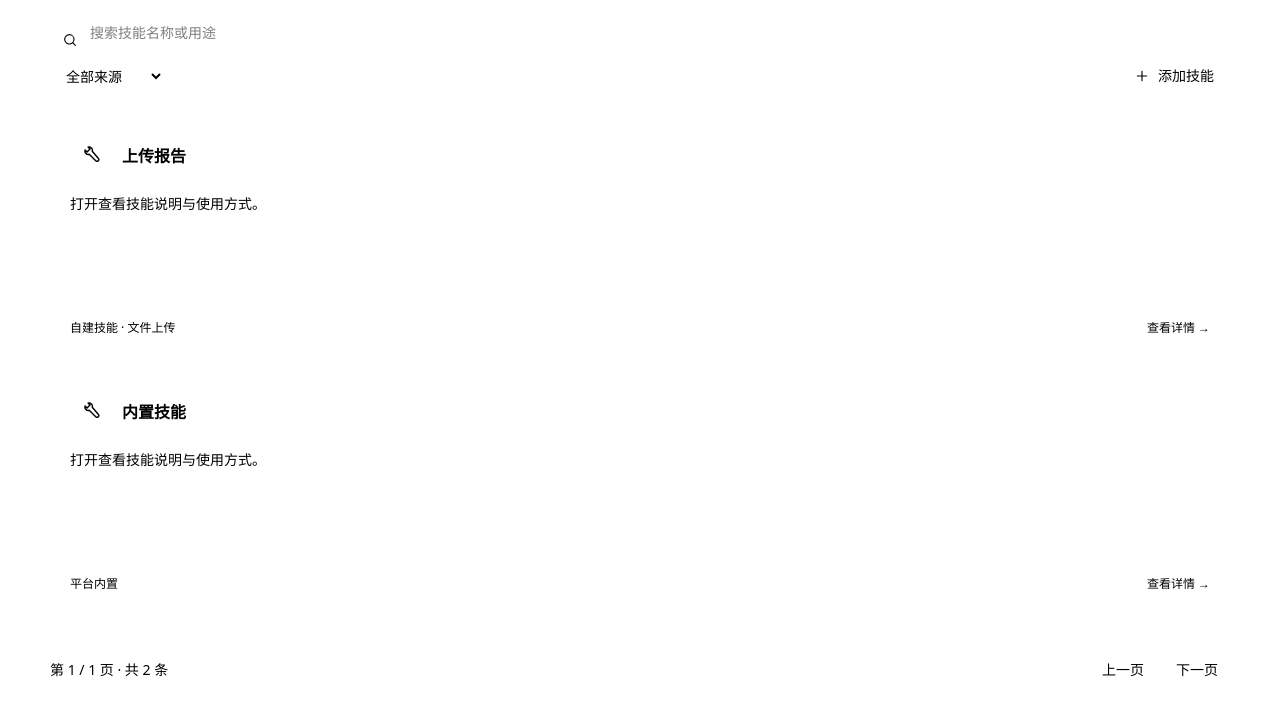
Test: builtin disable errors retain the enabled state and explain bound Agent dependencies
Click the button "内置技能 打开查看技能说明与使用方式。 平台内置 查看详情 →".
click(640, 492)  # box [50, 372, 1230, 612]
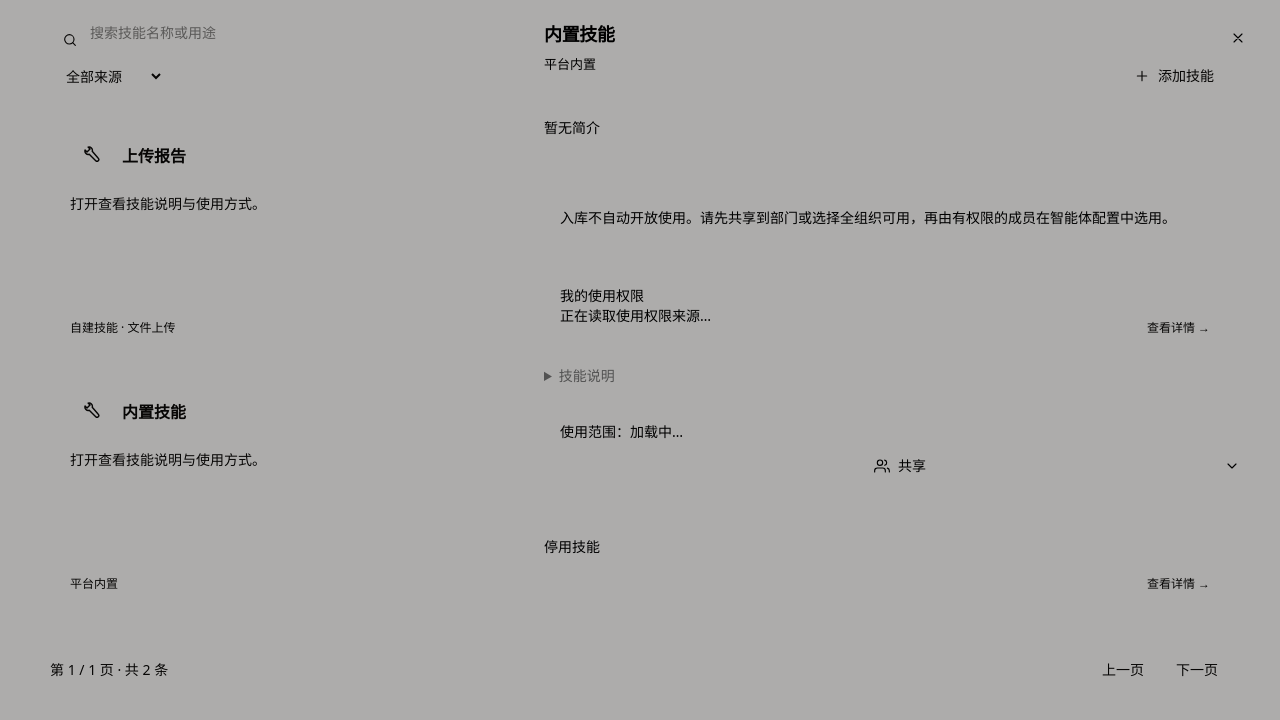
Click the button "停用技能".
click(572, 547)  # box [544, 537, 600, 557]
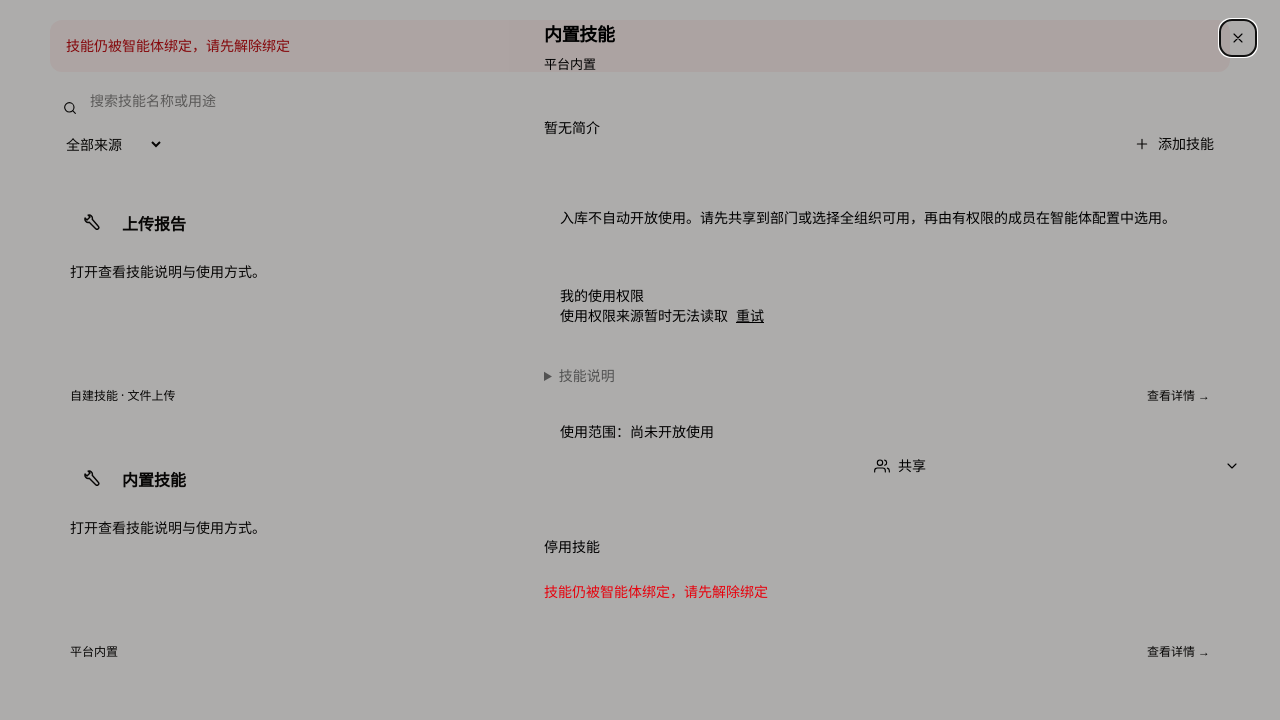
Expected: the button "停用技能" is enabled, [544, 537, 600, 557]
Expected: the text "技能仍被智能体绑定，请先解除绑定" is shown 2 times, [50, 20, 1230, 72]; [544, 582, 768, 601]
